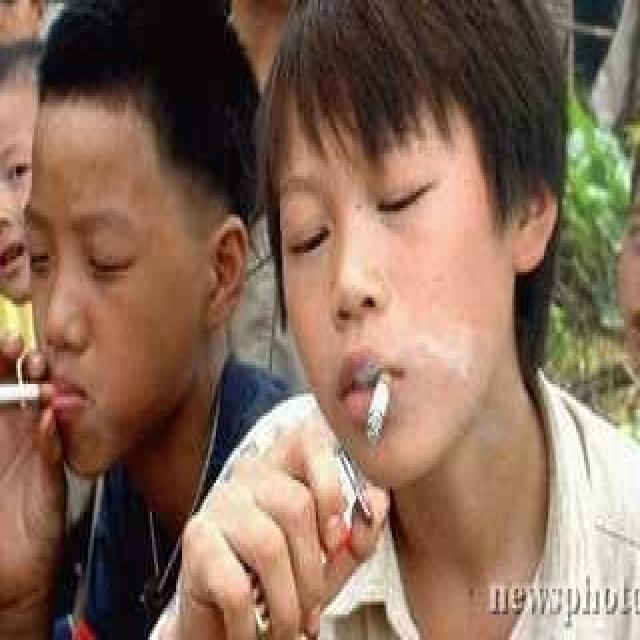Smooking: (353, 359, 399, 454), (2, 354, 56, 412)
